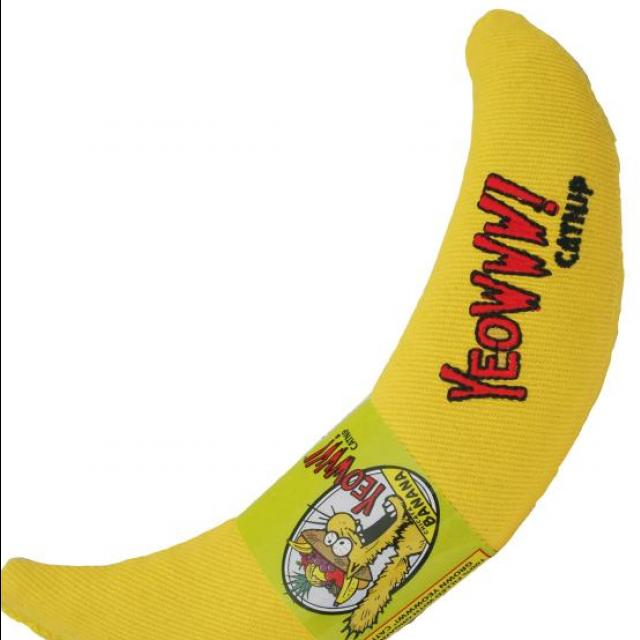banana: (1, 6, 636, 640)
